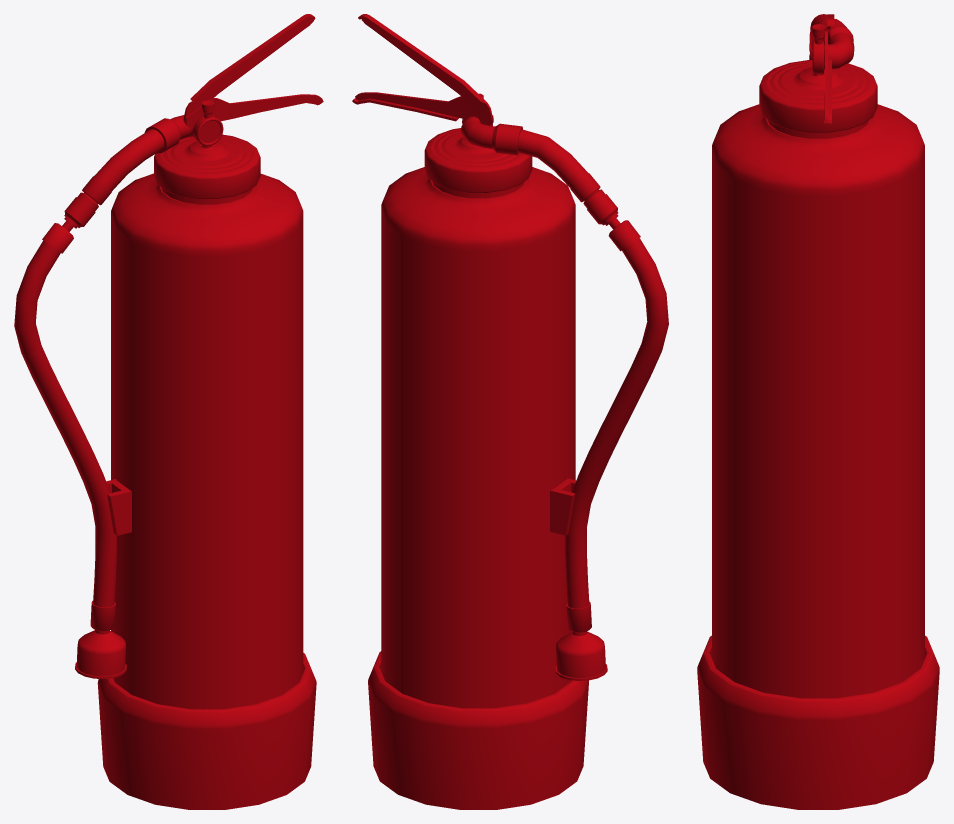
The model's file is fire_extinguisher_model_with_render.gltf.
3 views of the same model, side by side, from view 1: azimuth 30°, elevation 25°; view 2: azimuth 150°, elevation 25°; view 3: azimuth 270°, elevation 25° (orthographic). The views are drawn at different scales.
Visible parts, largest first — view 1: Exctincteur_Low; view 2: Exctincteur_Low; view 3: Exctincteur_Low.
Boxes of the visible parts, bbox=[...] form: Exctincteur_Low: bbox=[14, 14, 323, 809]; Exctincteur_Low: bbox=[352, 14, 668, 809]; Exctincteur_Low: bbox=[697, 14, 939, 809].
Size of the model in its own units: 219 by 489 by 135.
